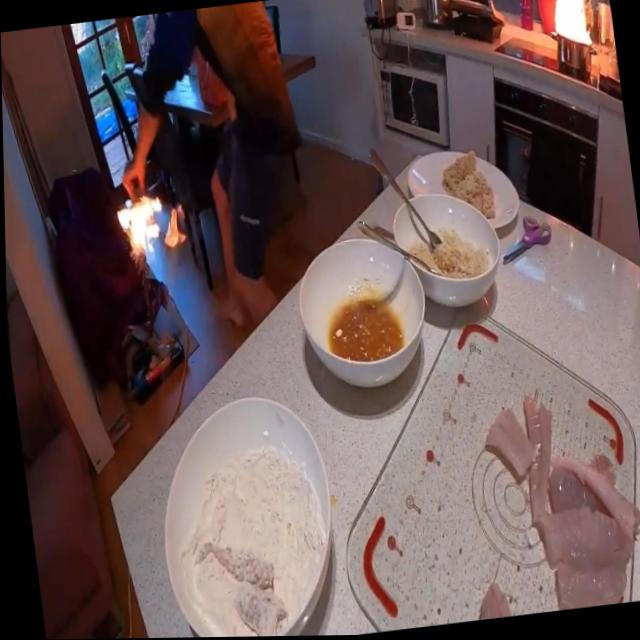fire: (110, 181, 190, 263), (544, 0, 597, 52)
